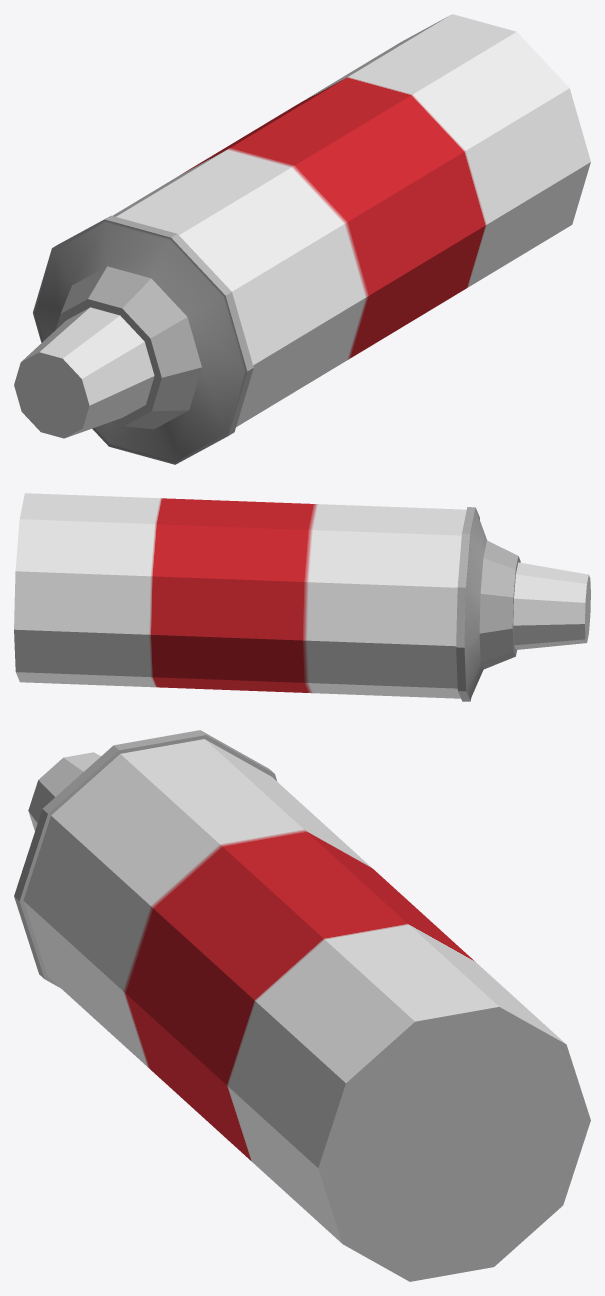
The model's file is obj_paint_spray_red_1.fbx.
3 views of the same model, one above another, from view 1: azimuth 30°, elevation 25°; view 2: azimuth 150°, elevation 25°; view 3: azimuth 270°, elevation 25° (orthographic). The views are drawn at different scales.
Parts seen in each view (by area): view 1: obj_paint_spray_red_1; view 2: obj_paint_spray_red_1; view 3: obj_paint_spray_red_1.
Boxes of the visible parts, x1,y1,x2,y2 form: obj_paint_spray_red_1: (14,14,590,464); obj_paint_spray_red_1: (14,493,590,701); obj_paint_spray_red_1: (14,730,590,1281).
Bounding box in the file's own units: 0.4114 × 0.1359 × 0.2648.
1 material, 1 textured.
